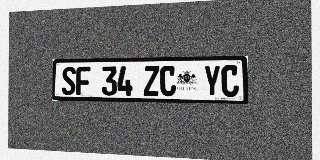3: (102, 66, 117, 96)
4: (117, 66, 132, 96)
C: (221, 65, 239, 97), (160, 66, 176, 96)
F: (76, 67, 90, 95)
S: (62, 67, 76, 95)
Y: (203, 65, 220, 97)
Z: (143, 66, 159, 96)
